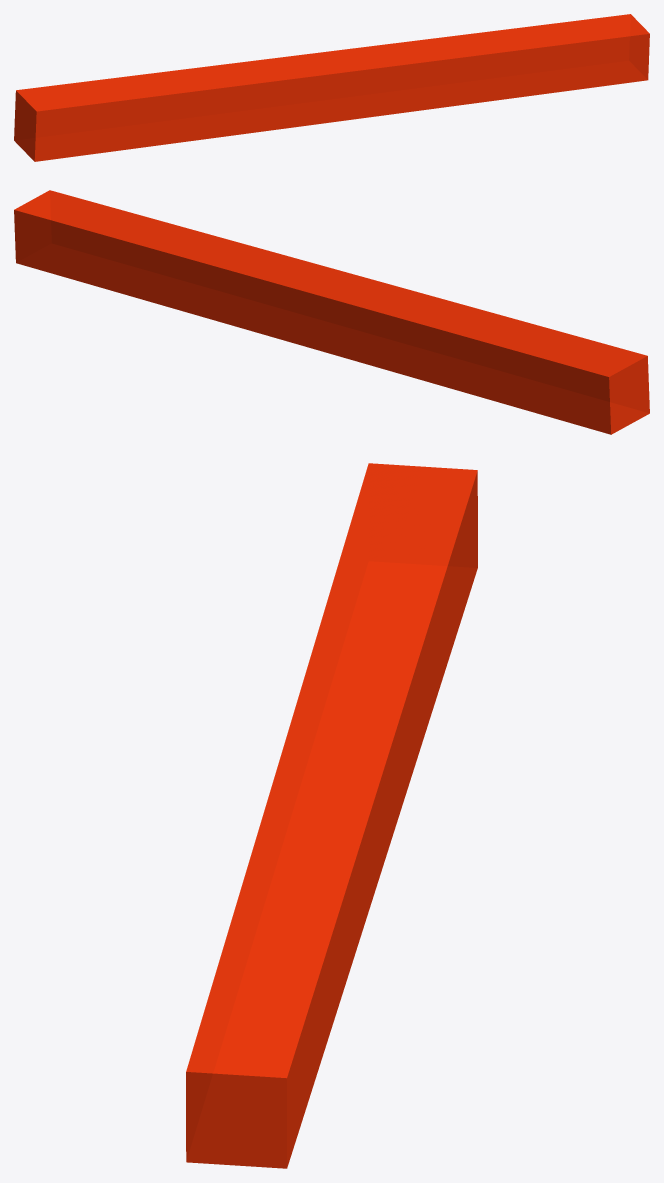
Rendered from Event_421556567_EErechit_18.fbx.
The picture shows the model from 3 angles, top to bottom: view 1: azimuth 30°, elevation 25°; view 2: azimuth 150°, elevation 25°; view 3: azimuth 270°, elevation 25°; orthographic projection. The views are drawn at different scales.
Visible parts, largest first — view 1: Model; view 2: Model; view 3: Model.
Boxes of the visible parts, bbox=[...] form: Model: bbox=[14, 14, 649, 161]; Model: bbox=[14, 190, 649, 434]; Model: bbox=[186, 463, 477, 1168].
Size of the model in its own units: 0.9469 by 0.1157 by 0.2078.
